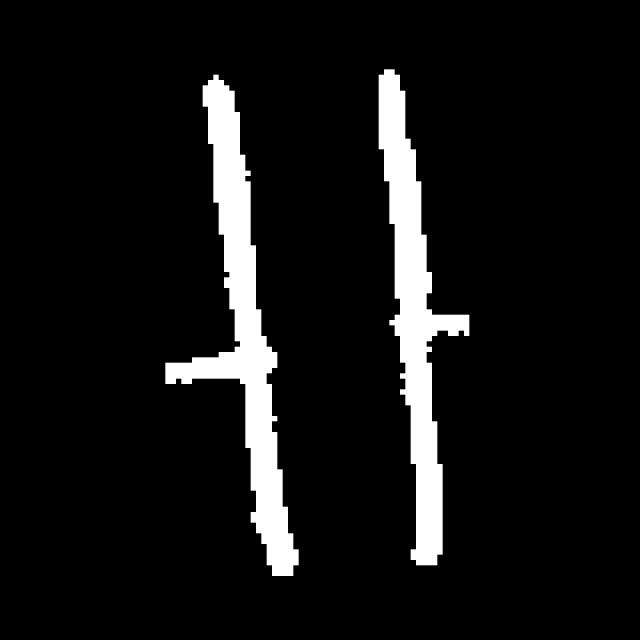capacitor: (197, 45, 450, 586)
